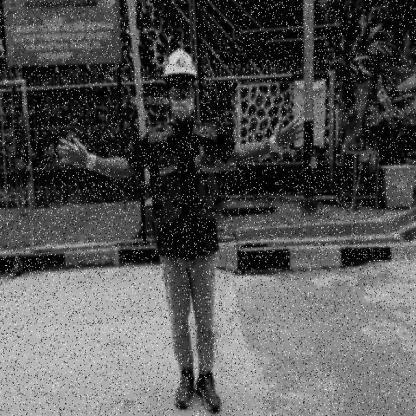boots: (195, 370, 221, 414), (174, 366, 195, 411)
gloves: (56, 138, 96, 174), (269, 116, 304, 154)
goggles: (169, 78, 195, 91)
helmet: (163, 48, 198, 79)
mask: (172, 98, 196, 122)
vest: (150, 152, 224, 226)
